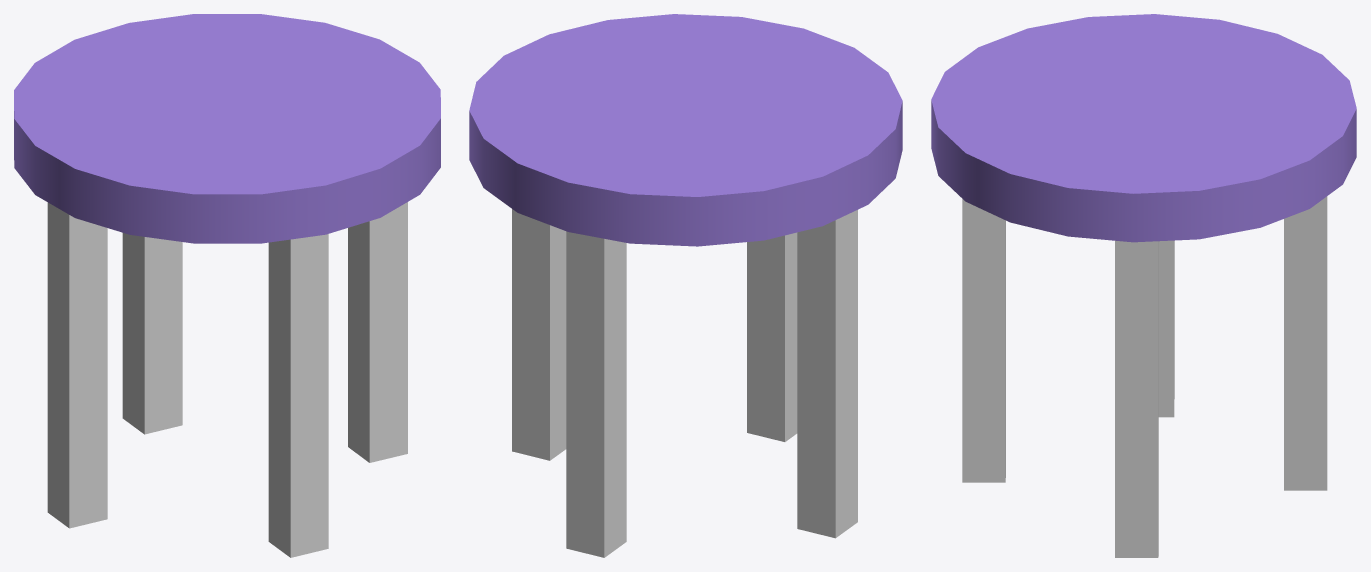
Rendered from table_de_chevet.fbx.
The picture shows the model from 3 angles, left to right: view 1: azimuth 30°, elevation 25°; view 2: azimuth 150°, elevation 25°; view 3: azimuth 270°, elevation 25°; orthographic projection.
Parts seen in each view (by area): view 1: pCylinder1; view 2: pCylinder1; view 3: pCylinder1.
Part boxes in pixels (x1,y1,x2,y2): pCylinder1: [14, 14, 440, 557]; pCylinder1: [469, 14, 902, 557]; pCylinder1: [931, 14, 1356, 557].
Size of the model in its own units: 62.28 by 60.43 by 62.28.
